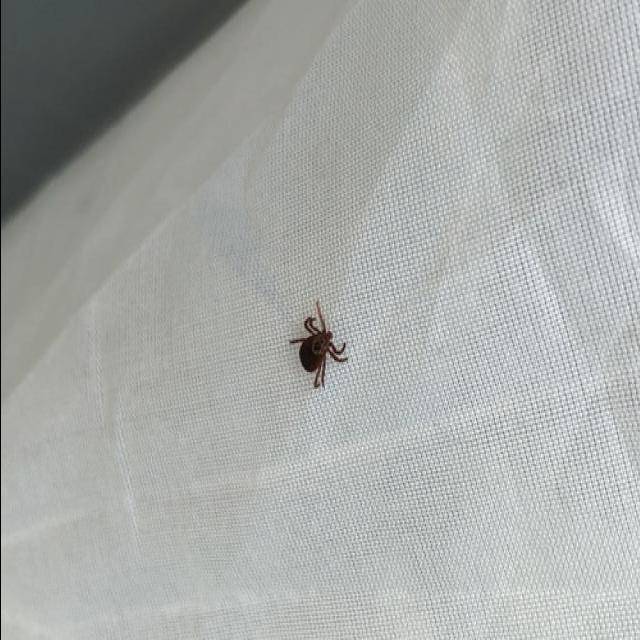Dermacentor Reticulatus-F: (289, 300, 349, 391)
